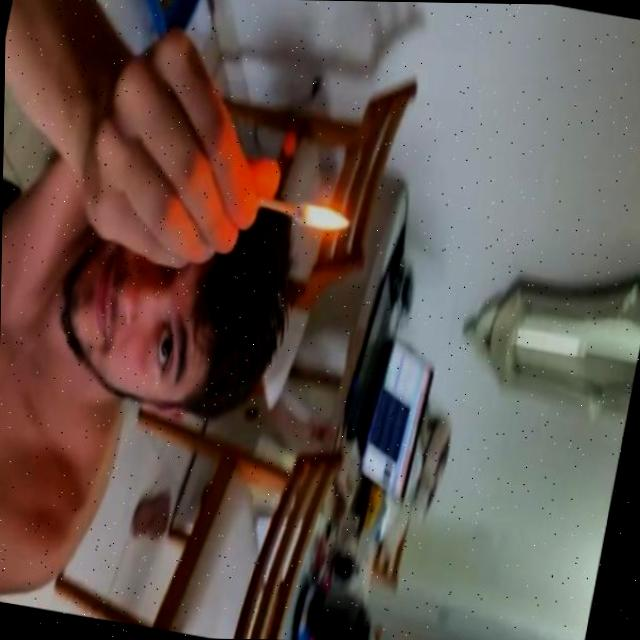fire: (294, 196, 354, 235)
